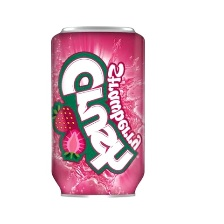can: (43, 18, 156, 211)
